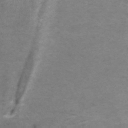finishing roll printing: (9, 0, 48, 116)
